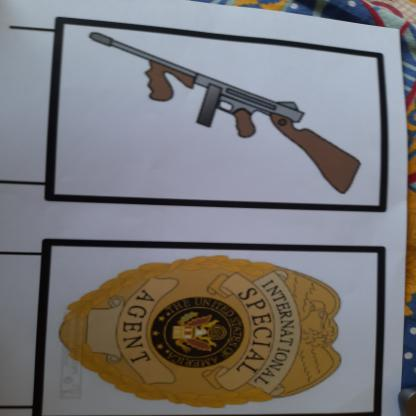Bootlegger: (74, 31, 371, 201)
G-man: (50, 247, 362, 416)
